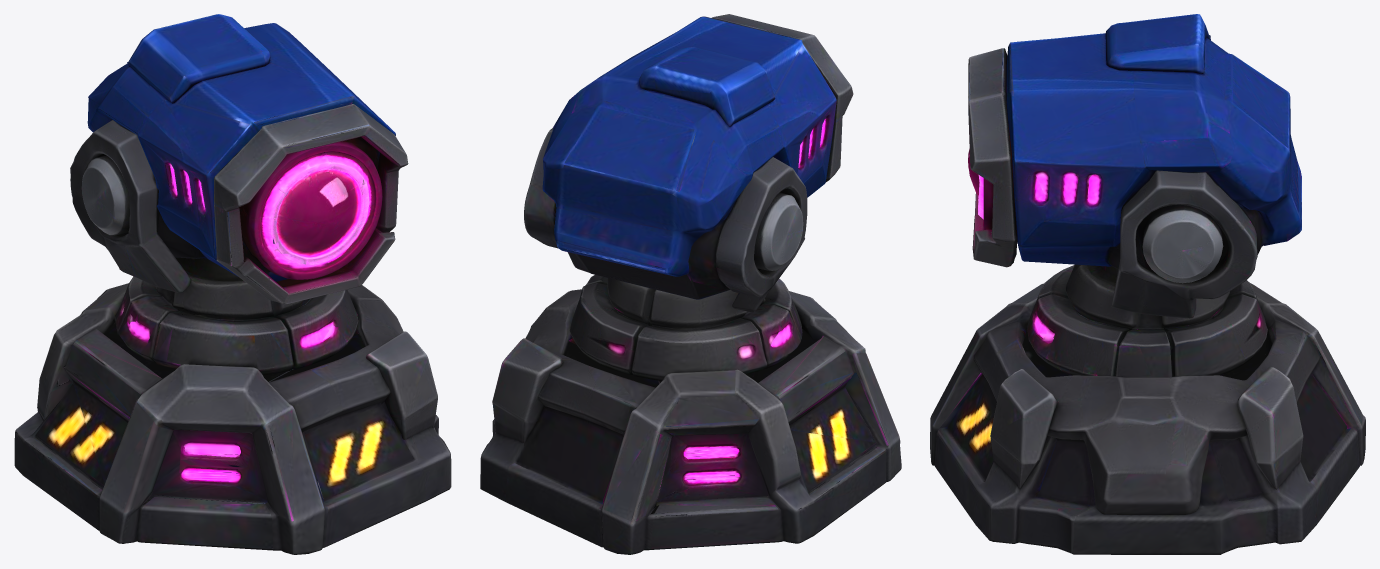
The model's file is nobetci.glb.
3 views of the same model, side by side, from view 1: azimuth 30°, elevation 25°; view 2: azimuth 150°, elevation 25°; view 3: azimuth 270°, elevation 25° (orthographic). The views are drawn at different scales.
Visible parts, largest first — view 1: nobetci; view 2: nobetci; view 3: nobetci.
Boxes of the visible parts, x1,y1,x2,y2 form: nobetci: (14,14,451,554); nobetci: (480,14,901,554); nobetci: (930,14,1365,554).
Size of the model in its own units: 0.7808 by 0.9526 by 0.8638.
Materials: 1 (1 with a texture image).
